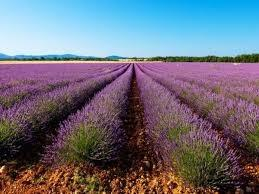field: (0, 63, 258, 192)
